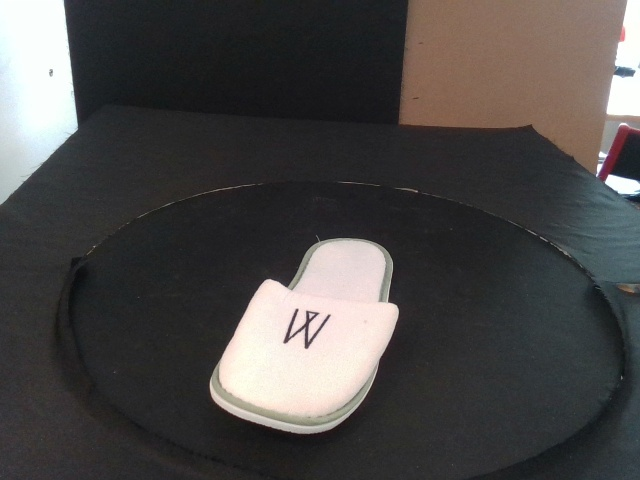shoe: (208, 235, 399, 434)
